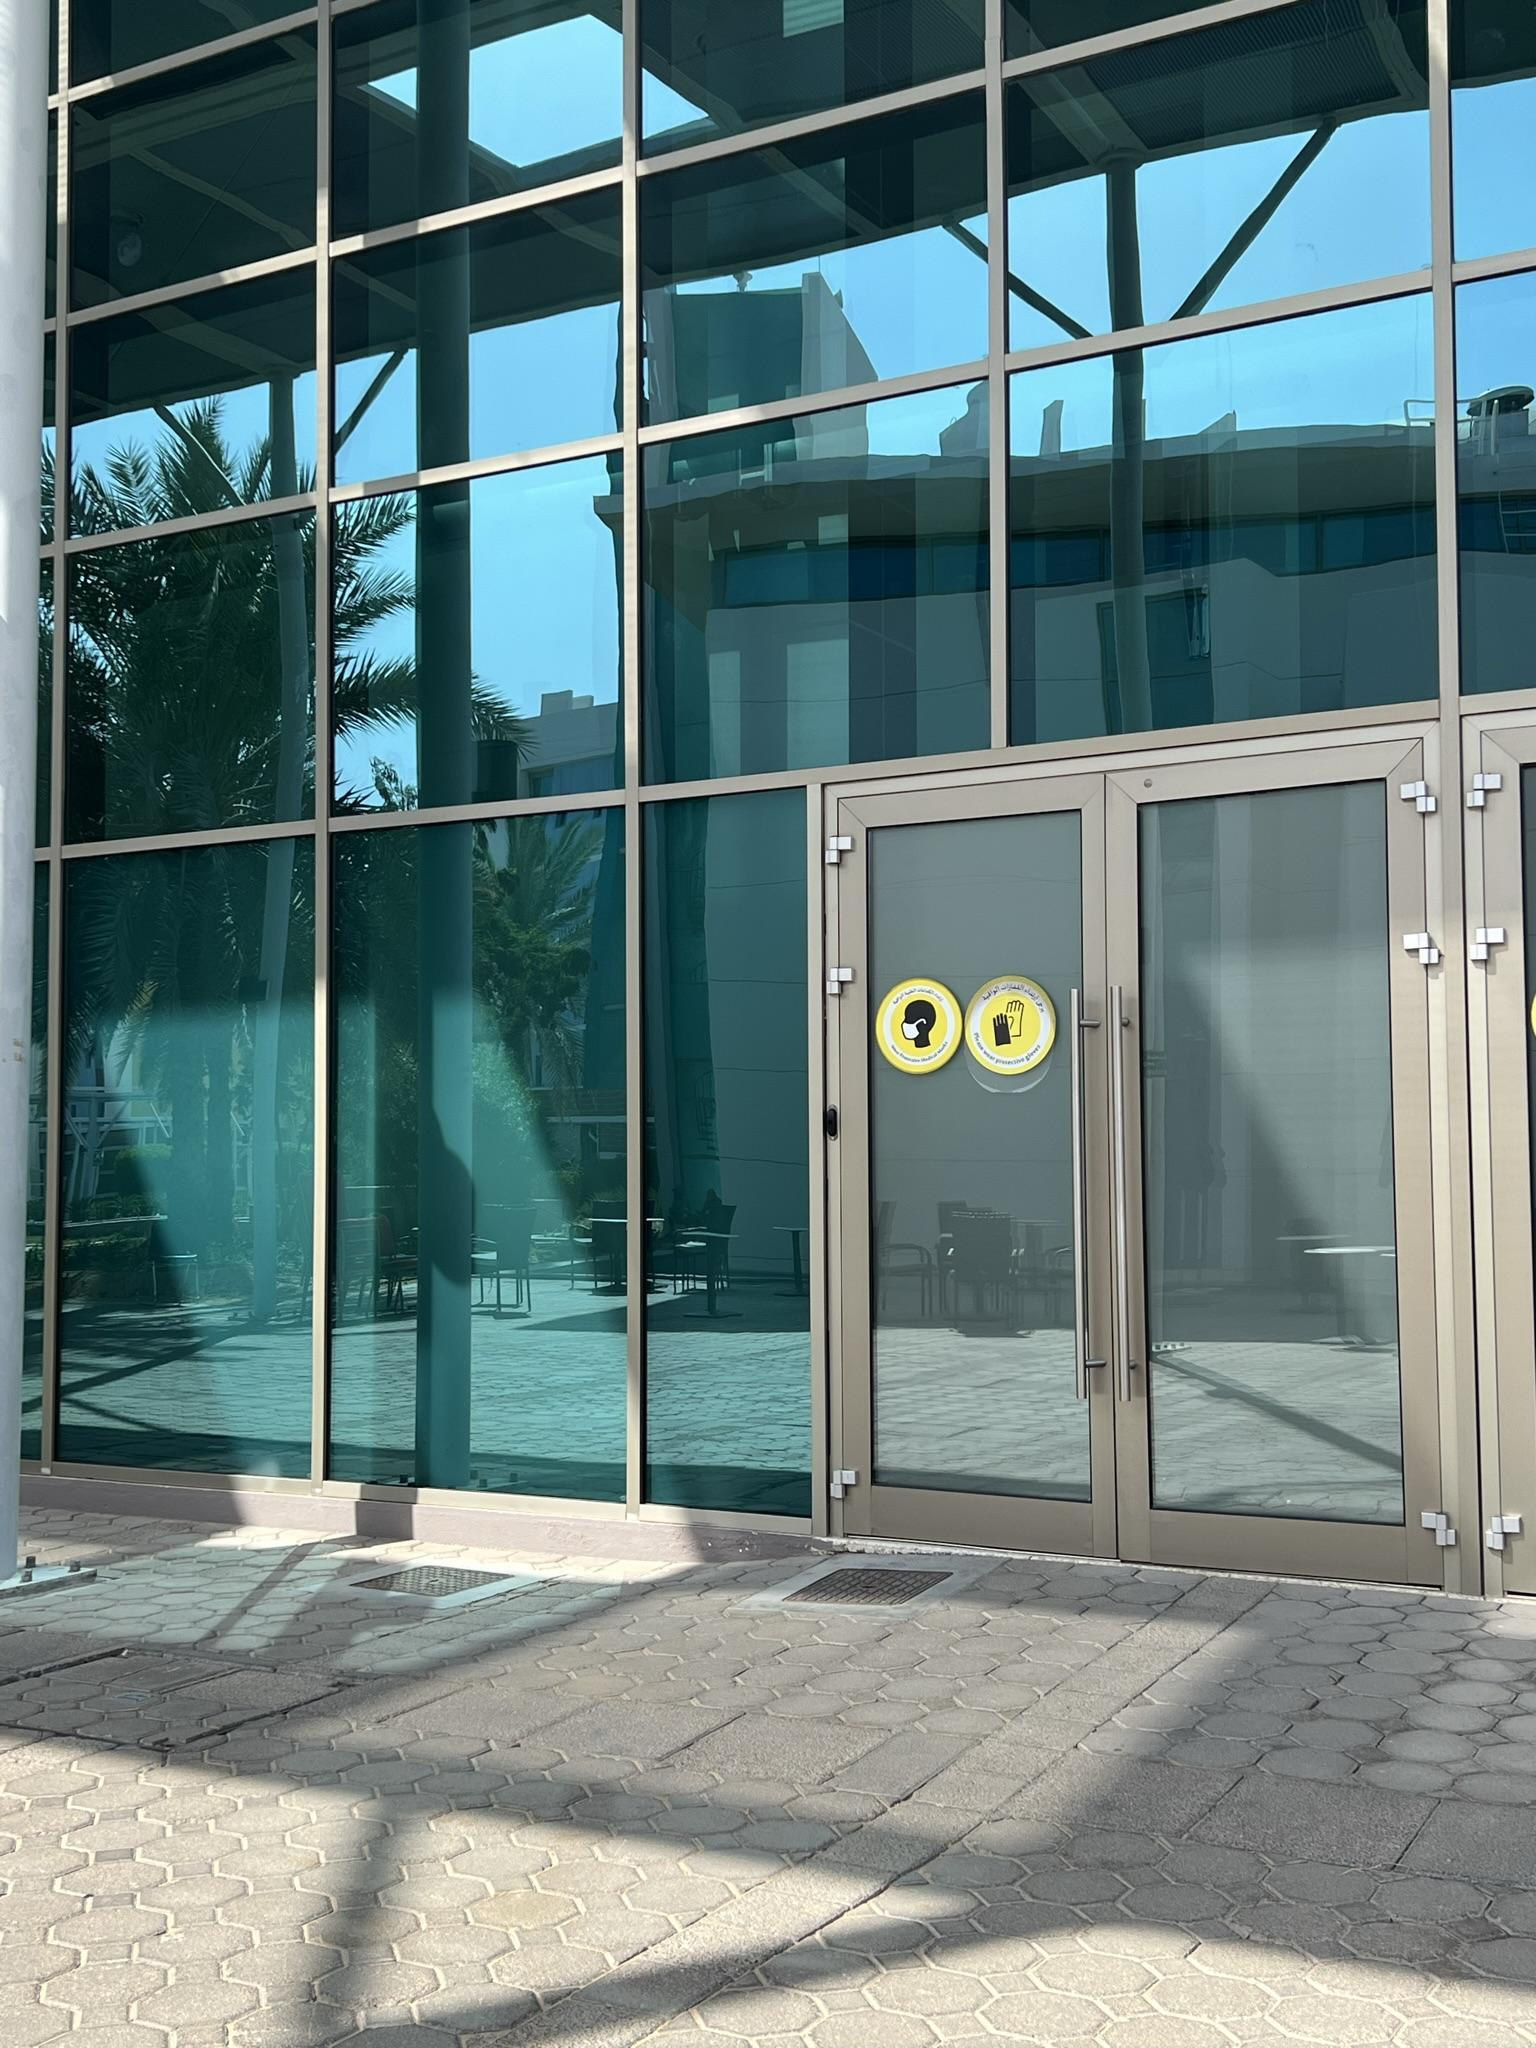door: (1121, 756, 1462, 1579), (842, 776, 1137, 1550)
handle: (1066, 985, 1113, 1400), (1108, 985, 1149, 1401)
